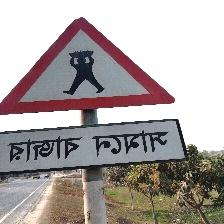Market-in-front: (0, 17, 190, 170)
